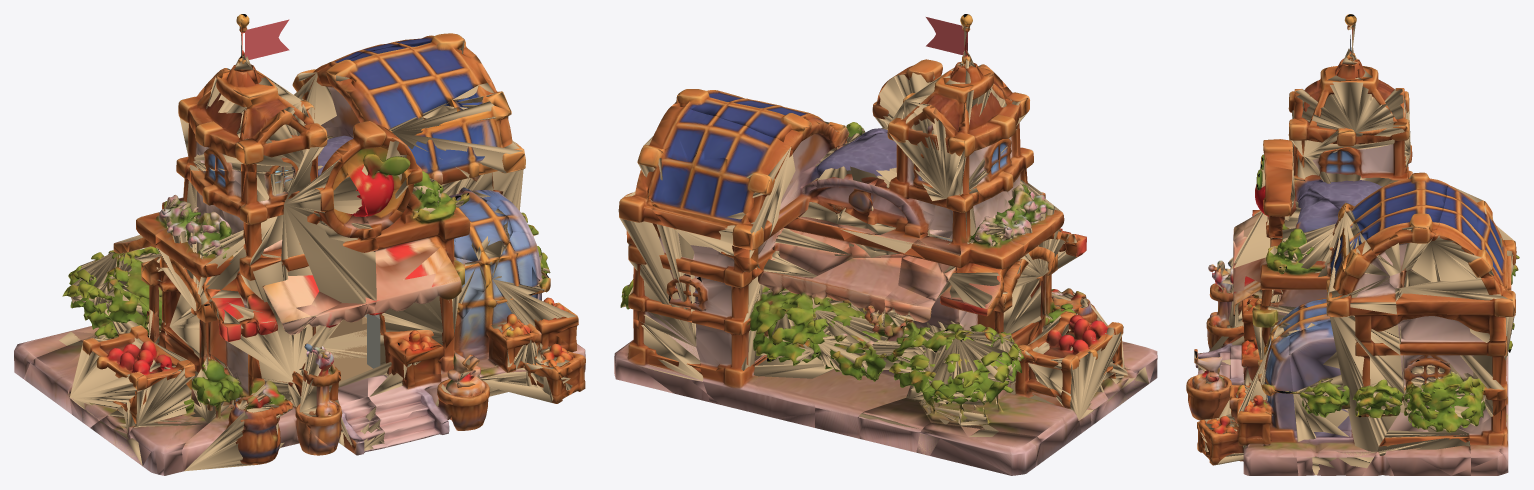
The model's file is HOB_BLD_FruitWarehouse_Fractured.fbx.
3 renders of one model, left to right at view 1: azimuth 30°, elevation 25°; view 2: azimuth 150°, elevation 25°; view 3: azimuth 270°, elevation 25°, orthographic. The views are drawn at different scales.
Parts seen in each view (by area): view 1: HOB_BLD_FruitWarehouse_Frag_00, HOB_BLD_FruitWarehouse_Frag_12, HOB_BLD_FruitWarehouse_Frag_08, HOB_BLD_FruitWarehouse_Frag_01, HOB_BLD_FruitWarehouse_Frag_21, HOB_BLD_FruitWarehouse_Frag_16, HOB_BLD_FruitWarehouse_Frag_22, HOB_BLD_FruitWarehouse_Frag_20, HOB_BLD_FruitWarehouse_Frag_19, HOB_BLD_FruitWarehouse_Frag_24, HOB_BLD_FruitWarehouse_Frag_28, HOB_BLD_FruitWarehouse_Frag_05 (+9 smaller); view 2: HOB_BLD_FruitWarehouse_Frag_29, HOB_BLD_FruitWarehouse_Frag_17, HOB_BLD_FruitWarehouse_Frag_12, HOB_BLD_FruitWarehouse_Frag_09, HOB_BLD_FruitWarehouse_Frag_03, HOB_BLD_FruitWarehouse_Frag_10, HOB_BLD_FruitWarehouse_Frag_24, HOB_BLD_FruitWarehouse_Frag_02, HOB_BLD_FruitWarehouse_Frag_18, HOB_BLD_FruitWarehouse_Frag_23, HOB_BLD_FruitWarehouse_Frag_01, HOB_BLD_FruitWarehouse_Frag_07 (+9 smaller); view 3: HOB_BLD_FruitWarehouse_Frag_11, HOB_BLD_FruitWarehouse_Frag_18, HOB_BLD_FruitWarehouse_Frag_00, HOB_BLD_FruitWarehouse_Frag_12, HOB_BLD_FruitWarehouse_Frag_04, HOB_BLD_FruitWarehouse_Frag_22, HOB_BLD_FruitWarehouse_Frag_29, HOB_BLD_FruitWarehouse_Frag_06, HOB_BLD_FruitWarehouse_Frag_03, HOB_BLD_FruitWarehouse_Frag_15, HOB_BLD_FruitWarehouse_Frag_08, HOB_BLD_FruitWarehouse_Frag_28 (+5 smaller).
Boxes of the visible parts, left/top/right/bottom form: HOB_BLD_FruitWarehouse_Frag_00: left=336, top=81, right=524, bottom=265; HOB_BLD_FruitWarehouse_Frag_12: left=178, top=14, right=339, bottom=176; HOB_BLD_FruitWarehouse_Frag_08: left=333, top=247, right=493, bottom=397; HOB_BLD_FruitWarehouse_Frag_01: left=155, top=170, right=293, bottom=311; HOB_BLD_FruitWarehouse_Frag_21: left=262, top=143, right=378, bottom=345; HOB_BLD_FruitWarehouse_Frag_16: left=196, top=255, right=341, bottom=383; HOB_BLD_FruitWarehouse_Frag_22: left=304, top=33, right=491, bottom=134; HOB_BLD_FruitWarehouse_Frag_20: left=182, top=375, right=337, bottom=471; HOB_BLD_FruitWarehouse_Frag_19: left=90, top=353, right=232, bottom=475; HOB_BLD_FruitWarehouse_Frag_24: left=69, top=290, right=209, bottom=427; HOB_BLD_FruitWarehouse_Frag_28: left=369, top=346, right=489, bottom=447; HOB_BLD_FruitWarehouse_Frag_05: left=435, top=279, right=568, bottom=406; HOB_BLD_FruitWarehouse_Frag_29: left=637, top=105, right=795, bottom=258; HOB_BLD_FruitWarehouse_Frag_17: left=690, top=252, right=814, bottom=427; HOB_BLD_FruitWarehouse_Frag_12: left=887, top=14, right=1029, bottom=200; HOB_BLD_FruitWarehouse_Frag_09: left=812, top=257, right=910, bottom=438; HOB_BLD_FruitWarehouse_Frag_03: left=815, top=102, right=935, bottom=257; HOB_BLD_FruitWarehouse_Frag_10: left=916, top=331, right=1041, bottom=475; HOB_BLD_FruitWarehouse_Frag_24: left=1003, top=276, right=1123, bottom=432; HOB_BLD_FruitWarehouse_Frag_02: left=857, top=285, right=961, bottom=452; HOB_BLD_FruitWarehouse_Frag_18: left=618, top=175, right=696, bottom=347; HOB_BLD_FruitWarehouse_Frag_23: left=911, top=192, right=1024, bottom=316; HOB_BLD_FruitWarehouse_Frag_01: left=973, top=124, right=1067, bottom=288; HOB_BLD_FruitWarehouse_Frag_07: left=919, top=332, right=1081, bottom=466; HOB_BLD_FruitWarehouse_Frag_11: left=1289, top=283, right=1404, bottom=475; HOB_BLD_FruitWarehouse_Frag_18: left=1395, top=276, right=1515, bottom=432; HOB_BLD_FruitWarehouse_Frag_00: left=1250, top=139, right=1389, bottom=338; HOB_BLD_FruitWarehouse_Frag_12: left=1288, top=14, right=1410, bottom=168; HOB_BLD_FruitWarehouse_Frag_04: left=1197, top=336, right=1298, bottom=475; HOB_BLD_FruitWarehouse_Frag_22: left=1339, top=131, right=1448, bottom=275; HOB_BLD_FruitWarehouse_Frag_29: left=1411, top=185, right=1516, bottom=289; HOB_BLD_FruitWarehouse_Frag_06: left=1362, top=406, right=1470, bottom=475; HOB_BLD_FruitWarehouse_Frag_03: left=1306, top=132, right=1409, bottom=209; HOB_BLD_FruitWarehouse_Frag_15: left=1195, top=243, right=1260, bottom=374; HOB_BLD_FruitWarehouse_Frag_08: left=1233, top=257, right=1296, bottom=379; HOB_BLD_FruitWarehouse_Frag_28: left=1186, top=349, right=1252, bottom=420.
Bounding box in the file's own units: 1630 × 1336 × 1189.
